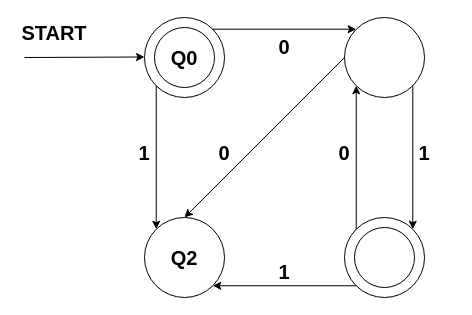
This 472x315 diagram has some shape labels left out. Each missing label, with the centre of its shape:
"Q0Q2" goes at pixel 384 257.
"Q1" goes at pixel 384 57.
